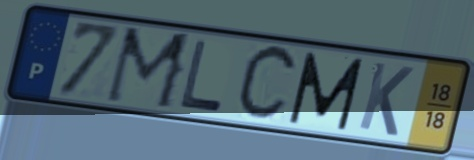7: (59, 18, 126, 100)
C: (232, 42, 302, 126)
K: (354, 59, 417, 140)
L: (177, 37, 226, 115)
M: (100, 24, 196, 113), (286, 49, 368, 133)
